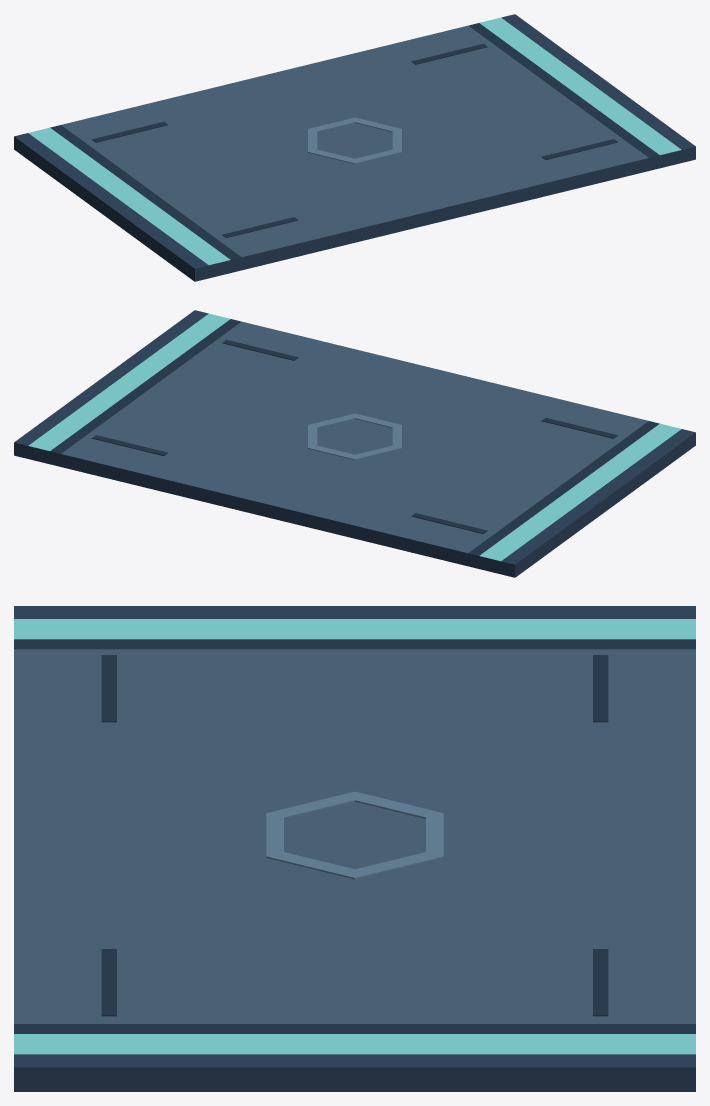
The model's file is campus_walk_short_v01.glb.
3 renders of one model, top to bottom at view 1: azimuth 30°, elevation 25°; view 2: azimuth 150°, elevation 25°; view 3: azimuth 270°, elevation 25°, orthographic. The views are drawn at different scales.
Parts seen in each view (by area): view 1: campus_walk_short; view 2: campus_walk_short; view 3: campus_walk_short.
Boxes of the visible parts, x1,y1,x2,y2 form: campus_walk_short: (14, 14, 695, 281); campus_walk_short: (14, 310, 695, 577); campus_walk_short: (14, 606, 695, 1091).
Size of the model in its own units: 3.2 by 0.086 by 2.
Materials: 1 (1 with a texture image).
